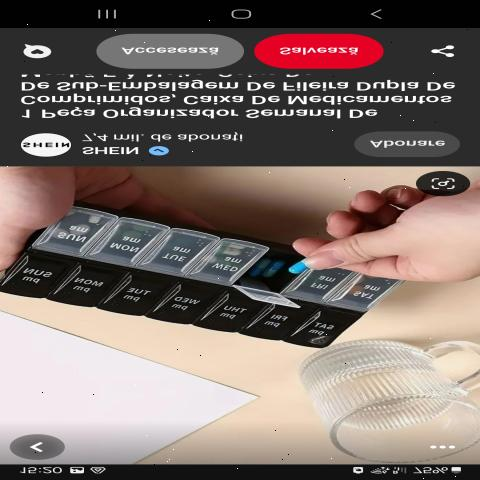PillBox: (11, 200, 410, 357)
